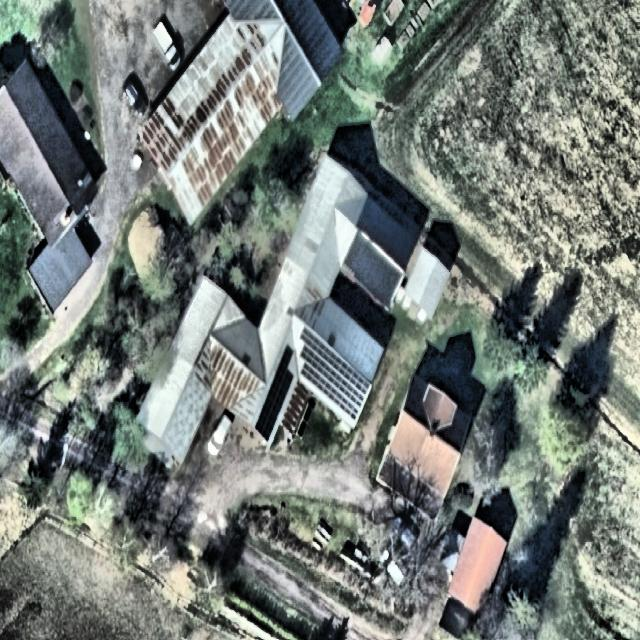roof_pv: (322, 342, 370, 422), (265, 343, 296, 399), (298, 329, 326, 391), (255, 398, 283, 442)
